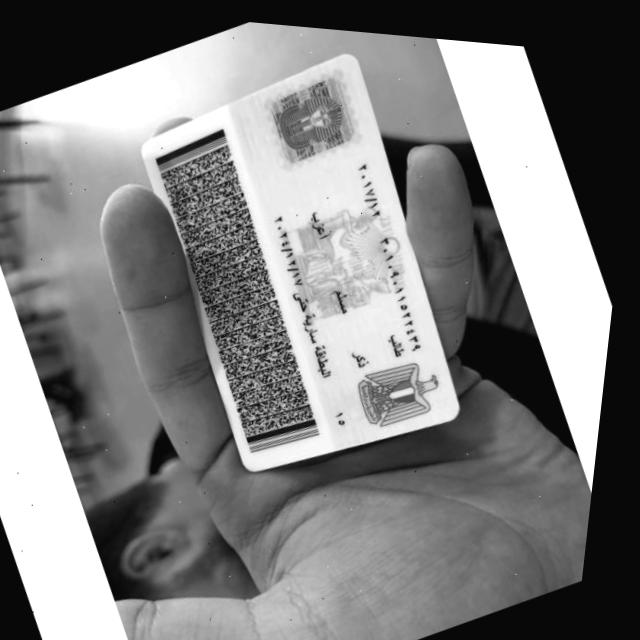id_card: (143, 54, 459, 471)
